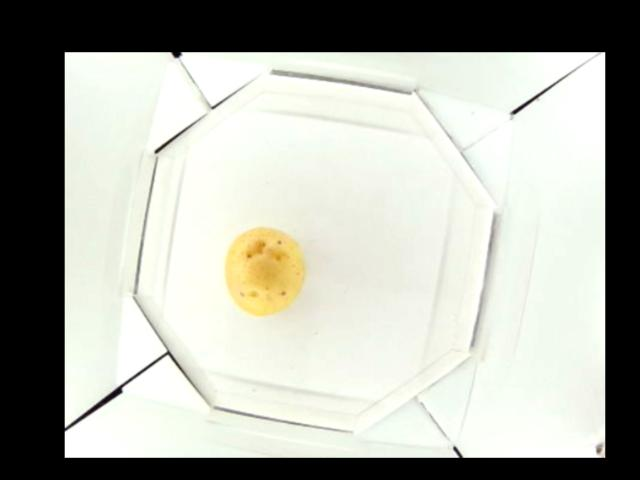Potato: (223, 224, 307, 316)
